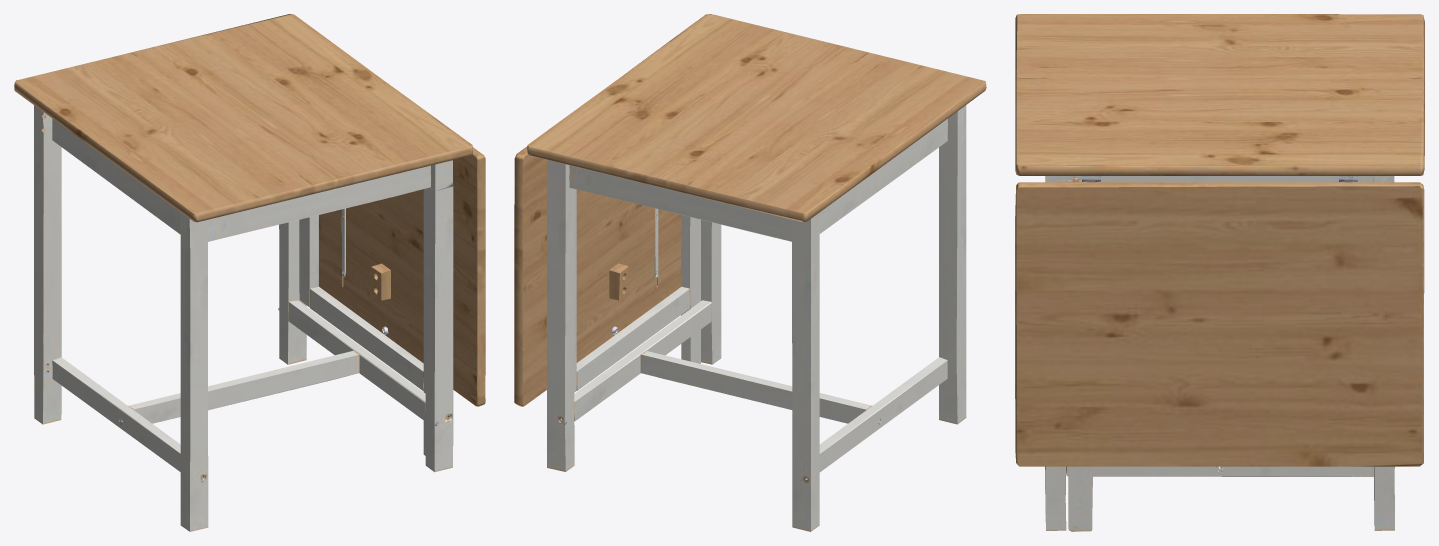
The model's file is 28 - PINNTORP Gateleg table - light brown stainedwhite stained pine 67124x75 cm.glb.
The picture shows the model from 3 angles, left to right: view 1: azimuth 30°, elevation 25°; view 2: azimuth 150°, elevation 25°; view 3: azimuth 270°, elevation 25°; orthographic projection. The views are drawn at different scales.
Parts seen in each view (by area): view 1: ASY_ART_70529465_S01_NV01; view 2: ASY_ART_70529465_S01_NV01; view 3: ASY_ART_70529465_S01_NV01.
Boxes of the visible parts, box(x1,y1,x2,y2) form: ASY_ART_70529465_S01_NV01: box(14, 14, 485, 531); ASY_ART_70529465_S01_NV01: box(514, 14, 986, 531); ASY_ART_70529465_S01_NV01: box(1015, 14, 1424, 531).
Bounding box in the file's own units: 0.6916 × 0.7505 × 0.751.
Materials: 1 (1 with a texture image).
